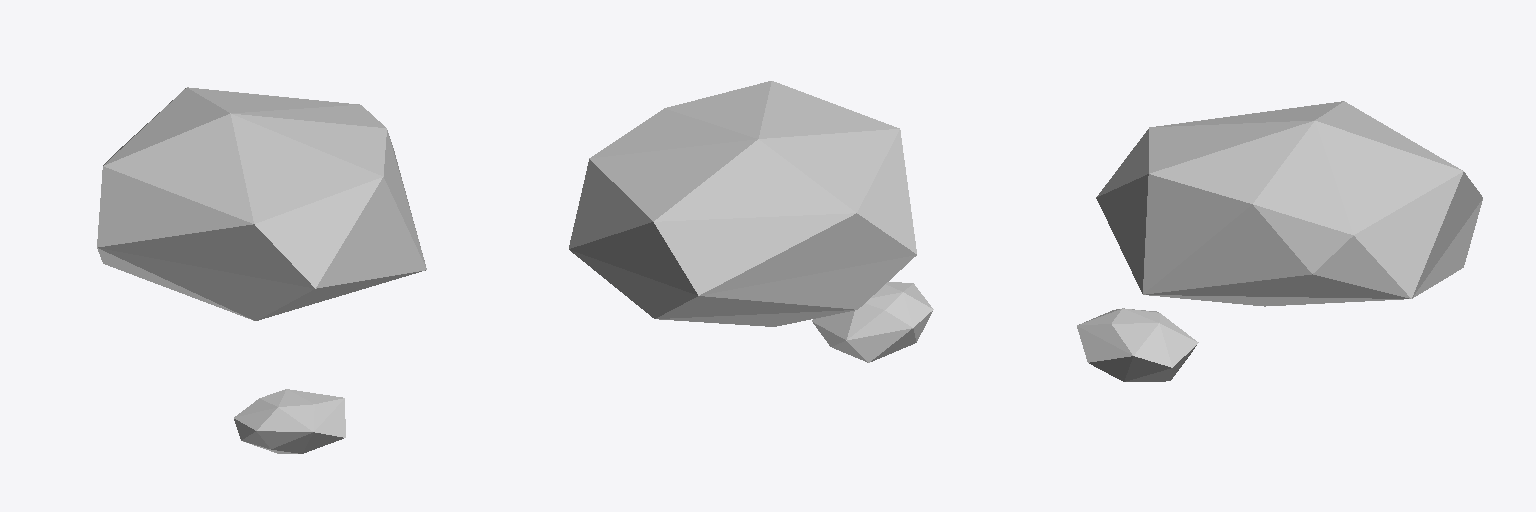
The model's file is liscie.obj.
3 renders of one model, left to right at view 1: azimuth 30°, elevation 25°; view 2: azimuth 150°, elevation 25°; view 3: azimuth 270°, elevation 25°, orthographic.
Visible parts, largest first — view 1: Icosphere, Icosphere.001; view 2: Icosphere, Icosphere.001; view 3: Icosphere, Icosphere.001.
Boxes of the visible parts, <box> form: Icosphere: <box>97,87,426,320</box>; Icosphere.001: <box>234,389,345,453</box>; Icosphere: <box>569,81,916,326</box>; Icosphere.001: <box>812,282,933,362</box>; Icosphere: <box>1096,101,1482,306</box>; Icosphere.001: <box>1077,308,1198,381</box>.
Bounding box in the file's own units: 10.36 × 8.45 × 11.84.